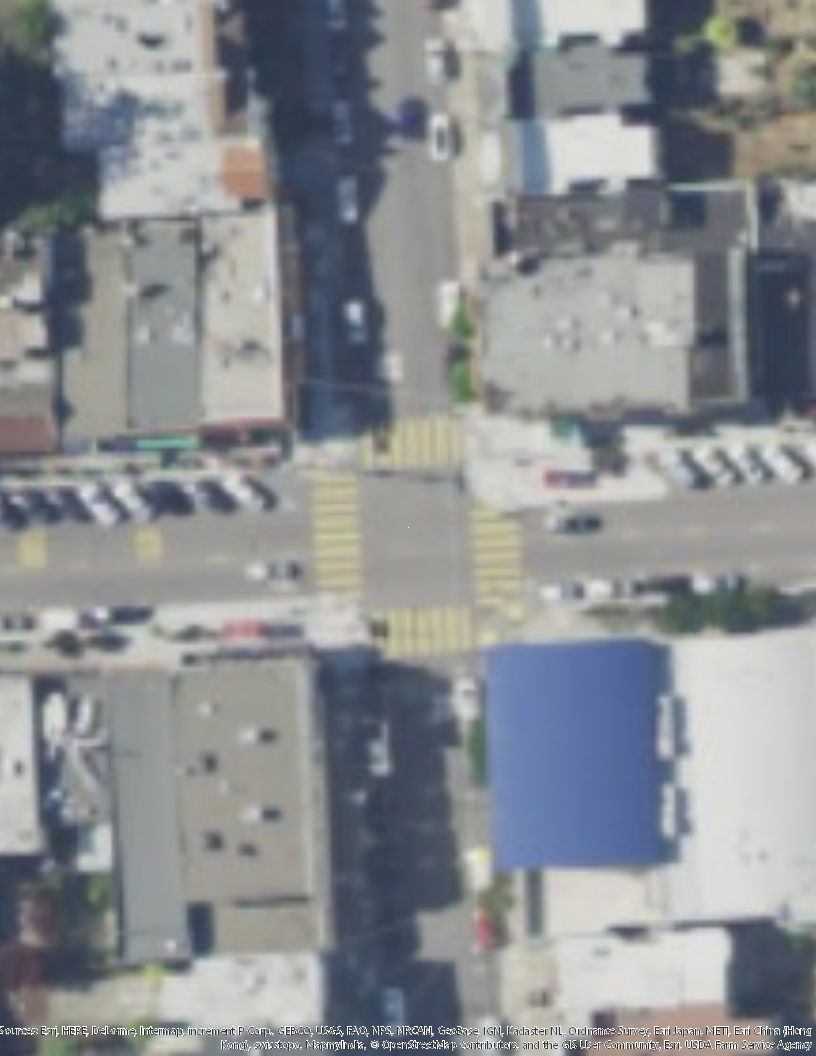zebracross: (310, 471, 365, 604), (355, 419, 461, 473), (371, 606, 478, 656), (468, 512, 524, 605)
